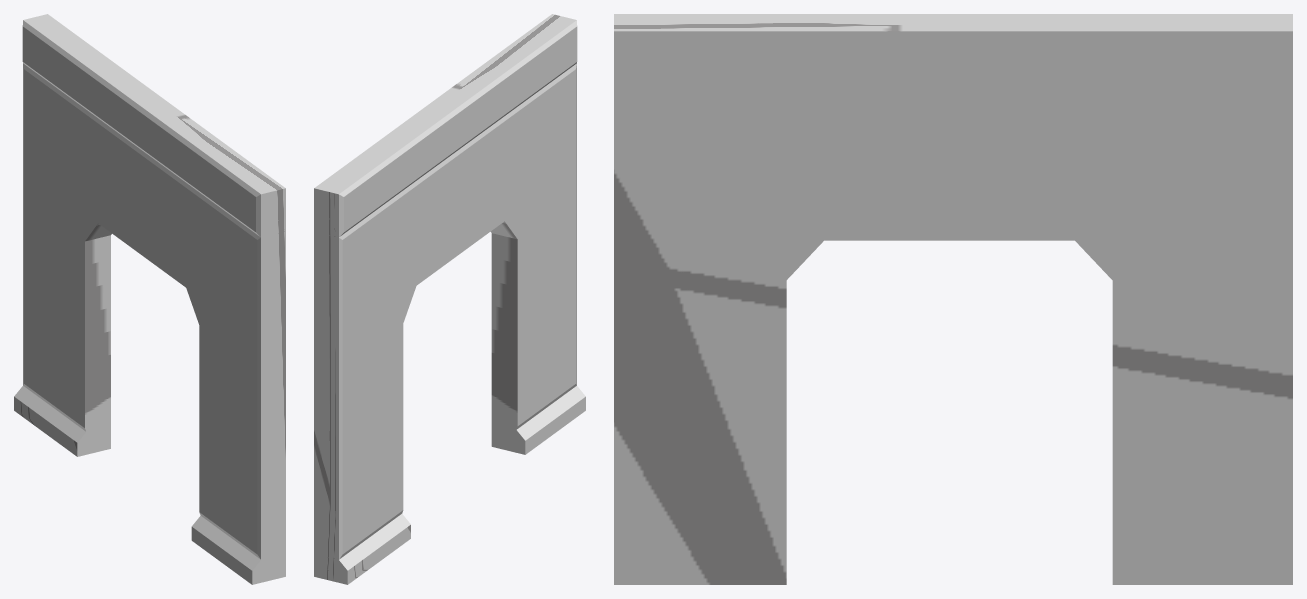
File: Parede Sala Porta.fbx
3 views of the same model, side by side, from view 1: azimuth 30°, elevation 25°; view 2: azimuth 150°, elevation 25°; view 3: azimuth 270°, elevation 25° (orthographic). The views are drawn at different scales.
Parts seen in each view (by area): view 1: Parede Salas Porta; view 2: Parede Salas Porta; view 3: Parede Salas Porta.
Boxes of the visible parts, x1,y1,x2,y2 form: Parede Salas Porta: [14, 14, 285, 584]; Parede Salas Porta: [314, 14, 585, 584]; Parede Salas Porta: [614, 14, 1292, 584].
Bounding box in the file's own units: 40.82 × 450 × 500.
